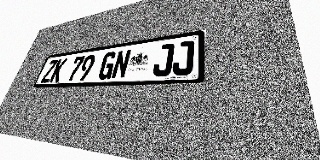7: (66, 56, 85, 81)
9: (77, 54, 97, 81)
G: (97, 51, 118, 80)
J: (171, 40, 195, 76), (152, 43, 175, 77)
K: (49, 58, 68, 82)
N: (110, 49, 132, 79)
Z: (40, 59, 58, 83)
